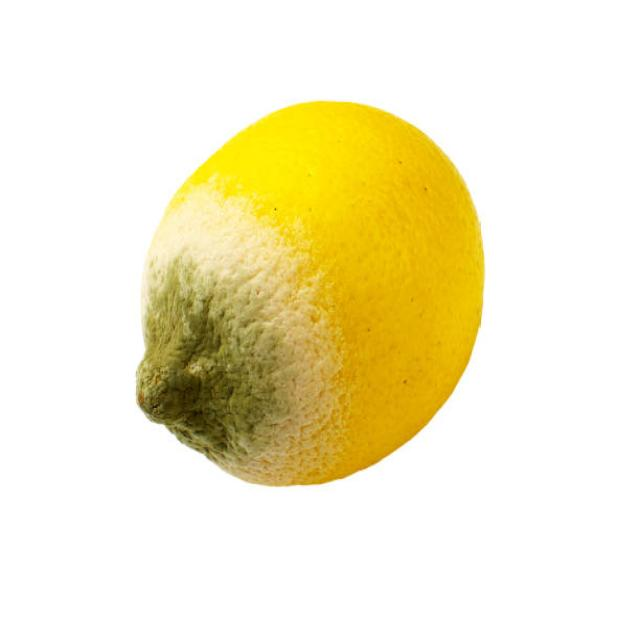Rotten: (133, 97, 484, 485)
